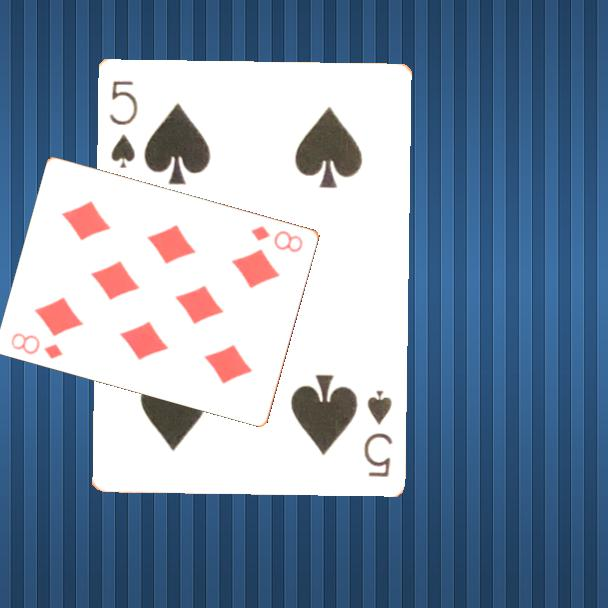d08: (248, 222, 306, 255), (8, 329, 66, 362)
s05: (360, 386, 395, 479), (106, 76, 140, 170)
